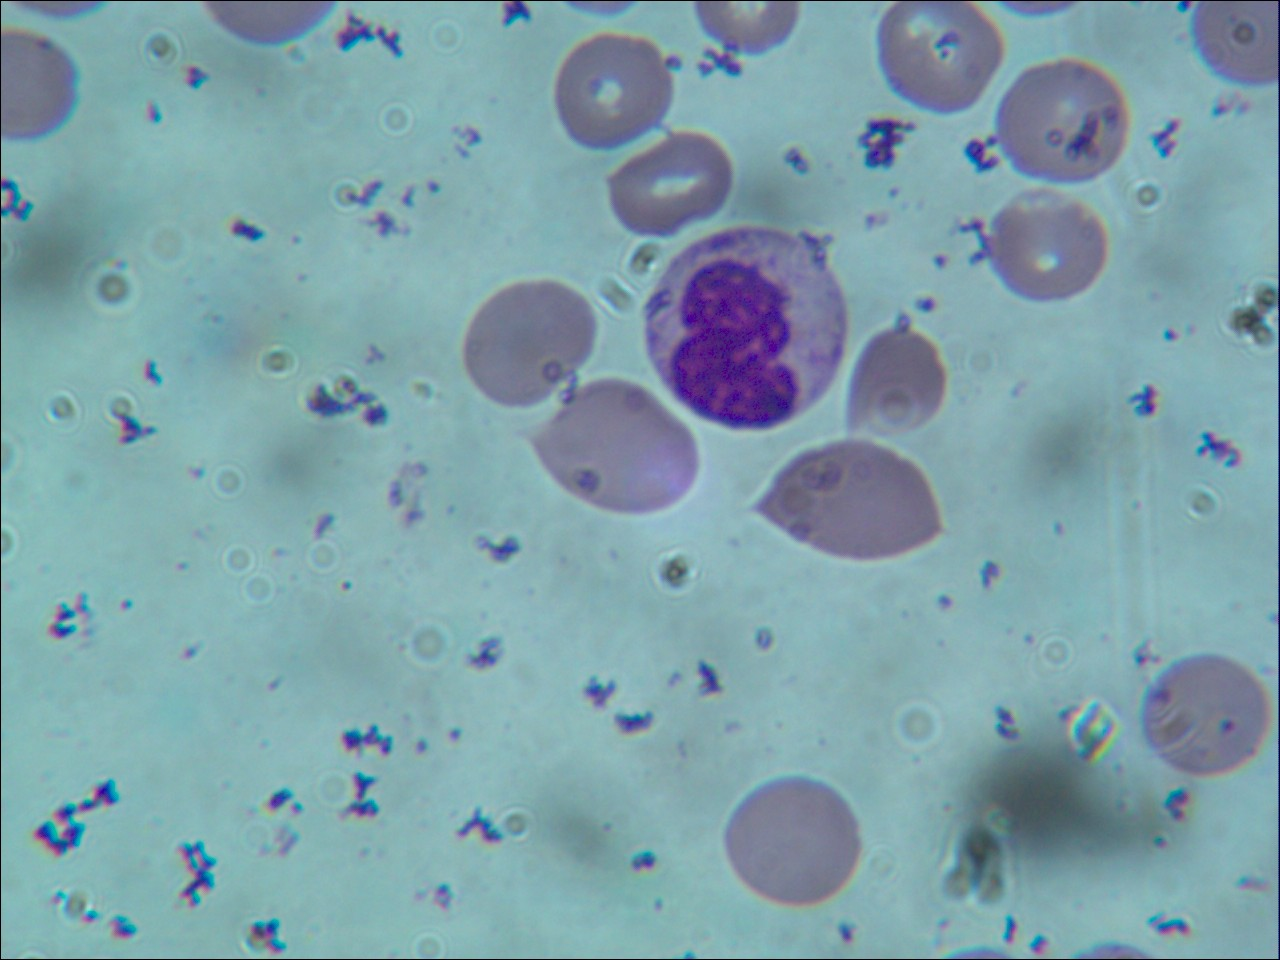Eritrosit: (523, 378, 696, 517), (753, 442, 950, 562), (449, 275, 602, 417), (715, 774, 864, 912), (992, 58, 1131, 183), (550, 30, 678, 156), (1142, 655, 1273, 778), (875, 2, 1009, 118), (603, 125, 739, 236), (996, 187, 1106, 305), (839, 322, 949, 436)
Neutrofil: (634, 227, 848, 434)
Platelet: (977, 558, 1006, 596), (633, 846, 661, 881), (912, 284, 939, 321), (923, 244, 955, 272), (439, 722, 467, 755), (420, 169, 447, 200), (750, 624, 778, 652), (1215, 715, 1240, 746), (995, 719, 1024, 744), (837, 919, 864, 944), (339, 574, 362, 603), (411, 736, 436, 762), (1161, 322, 1186, 346), (112, 597, 140, 618), (936, 584, 955, 614), (995, 703, 1014, 721)
